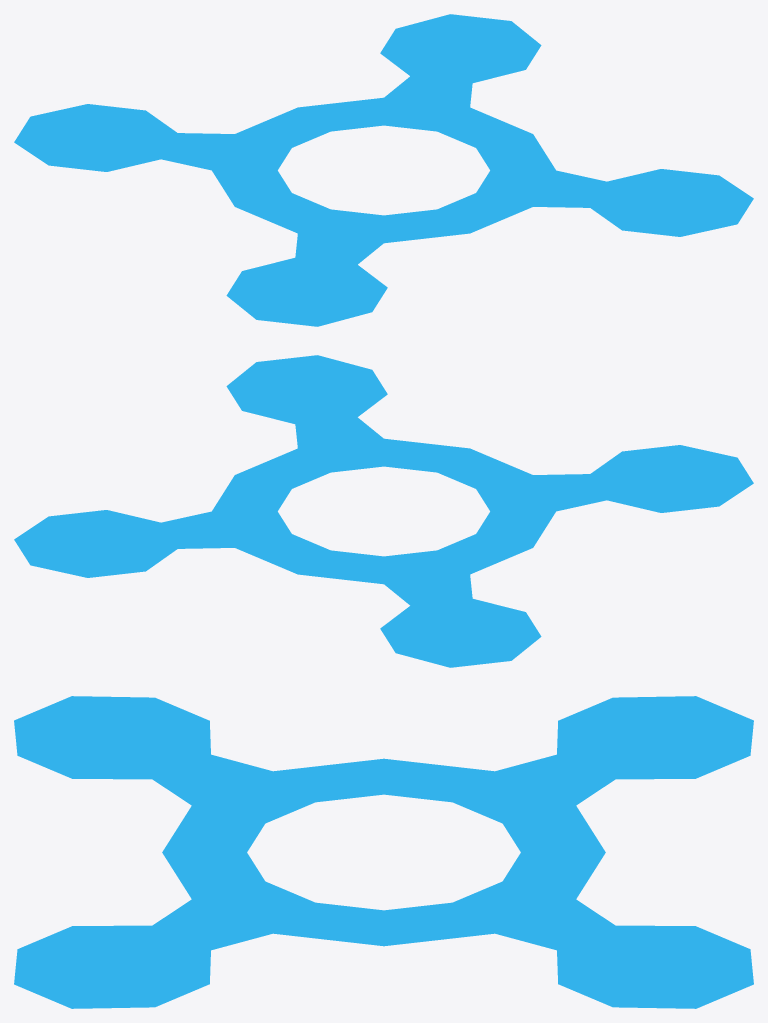
The model's file is hieroglyph_008.glb.
3 renders of one model, top to bottom at view 1: azimuth 30°, elevation 25°; view 2: azimuth 150°, elevation 25°; view 3: azimuth 270°, elevation 25°, orthographic. The views are drawn at different scales.
Visible parts, largest first — view 1: hieroglyph_008; view 2: hieroglyph_008; view 3: hieroglyph_008.
Part boxes in pixels (x1=…): hieroglyph_008: x1=14, y1=14, x2=753, y2=326; hieroglyph_008: x1=14, y1=355, x2=753, y2=667; hieroglyph_008: x1=14, y1=696, x2=753, y2=1008.
Bounding box in the file's own units: 0.5507 × 0 × 0.5507.
1 material, 1 textured.
